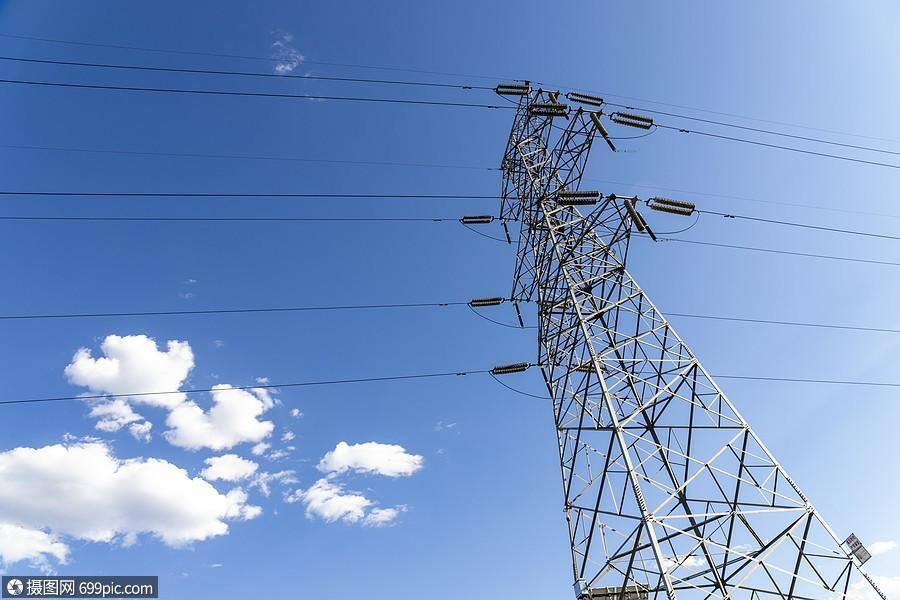power_tower: (443, 77, 887, 600)
